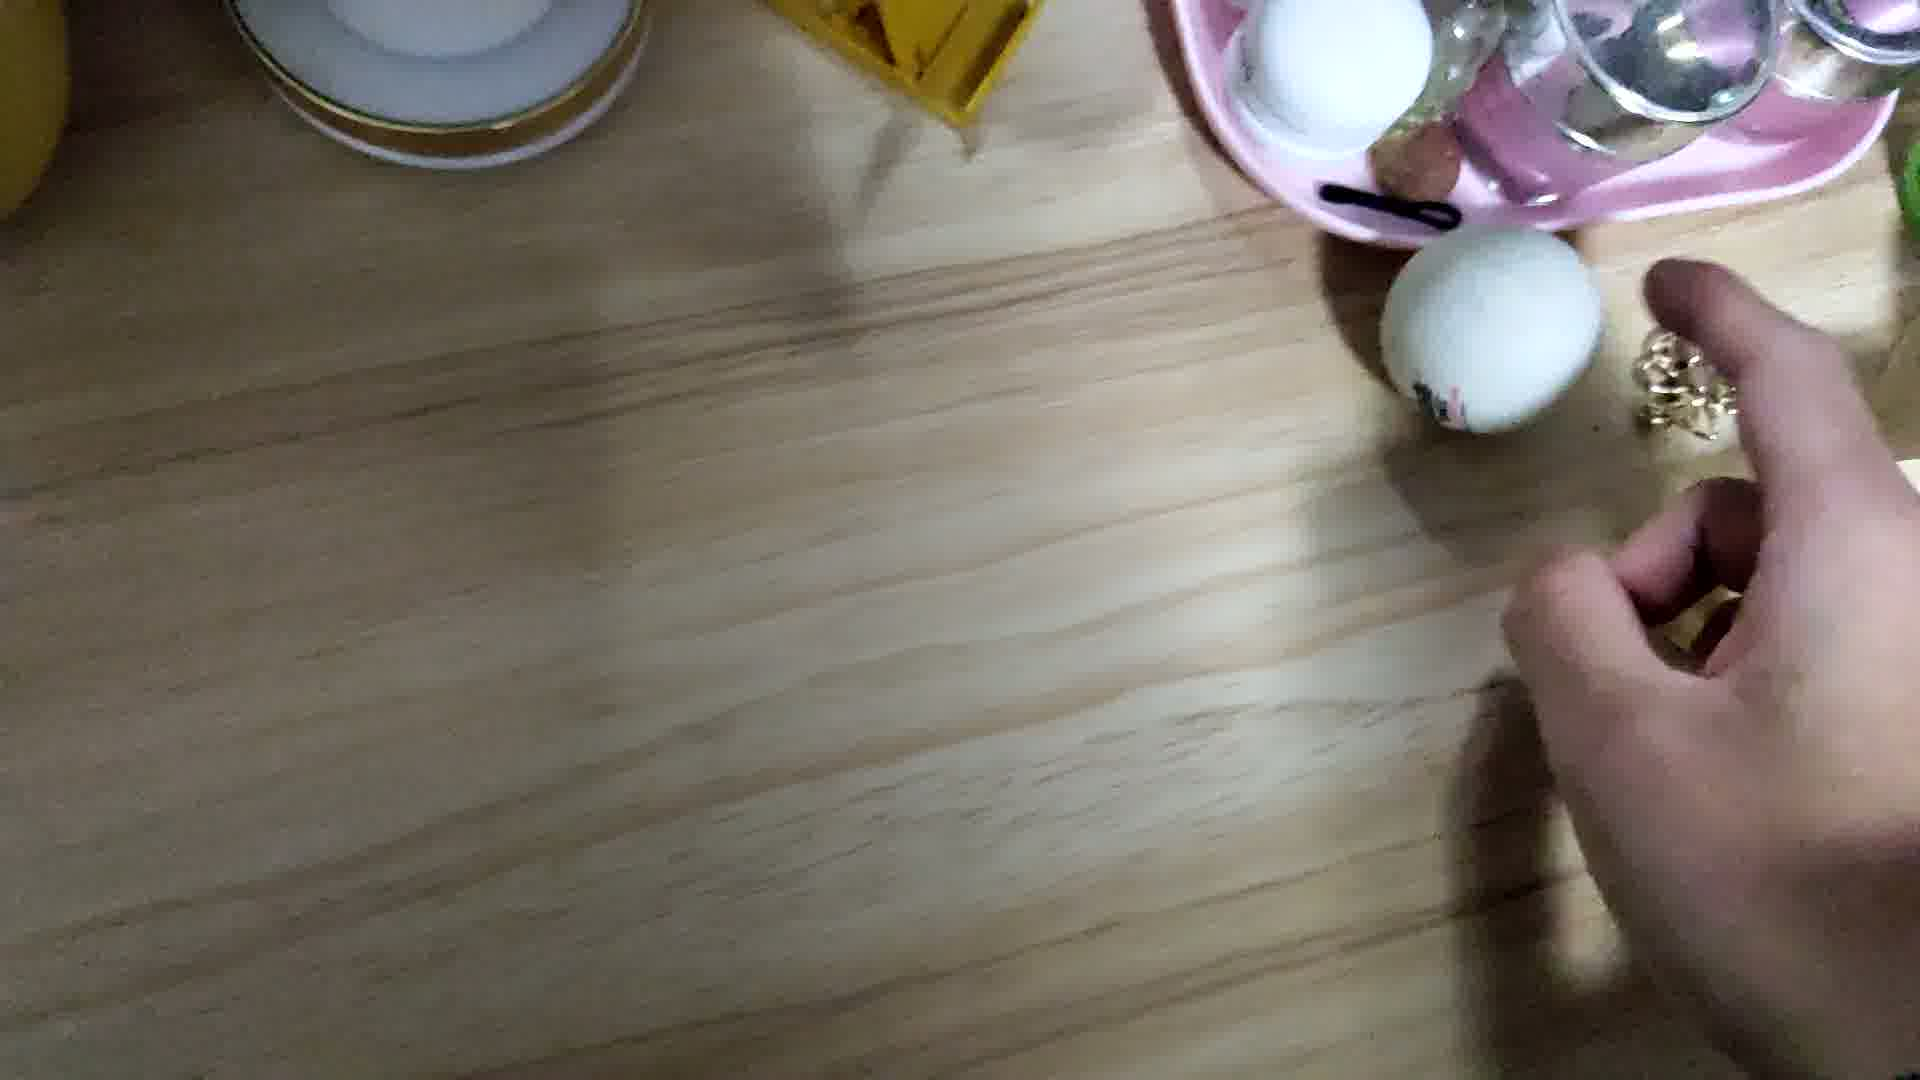Ball: (1375, 224, 1601, 429)
